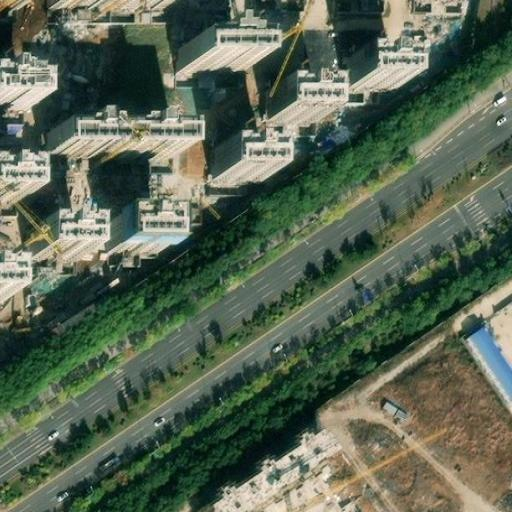building: (207, 442, 331, 512), (45, 120, 173, 153), (183, 33, 246, 70), (342, 59, 396, 93), (116, 215, 169, 249), (264, 94, 313, 128), (38, 225, 88, 256), (206, 152, 256, 182), (0, 173, 18, 208)
